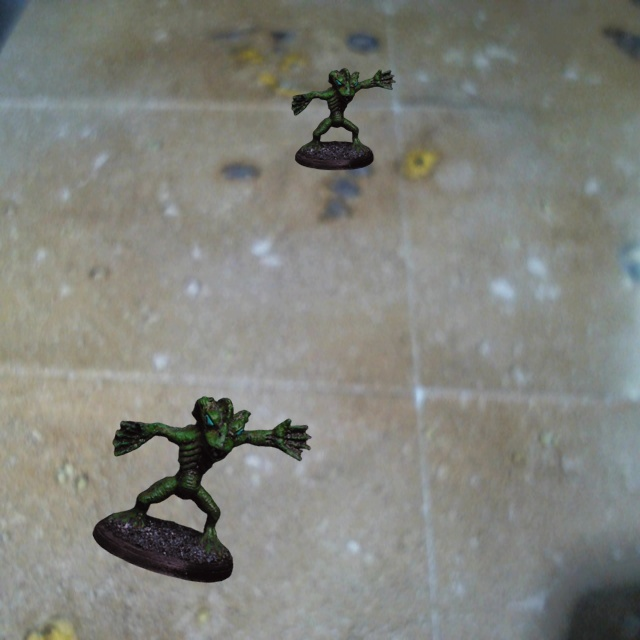pieza_juego: (92, 396, 311, 582), (291, 68, 395, 170)
